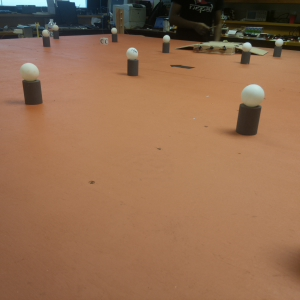obstacle: (237, 84, 261, 134), (19, 63, 43, 102), (124, 47, 138, 75), (240, 43, 252, 65), (116, 7, 124, 32), (160, 35, 170, 53), (274, 38, 283, 55), (42, 30, 50, 48), (110, 27, 118, 43), (52, 24, 59, 41)
